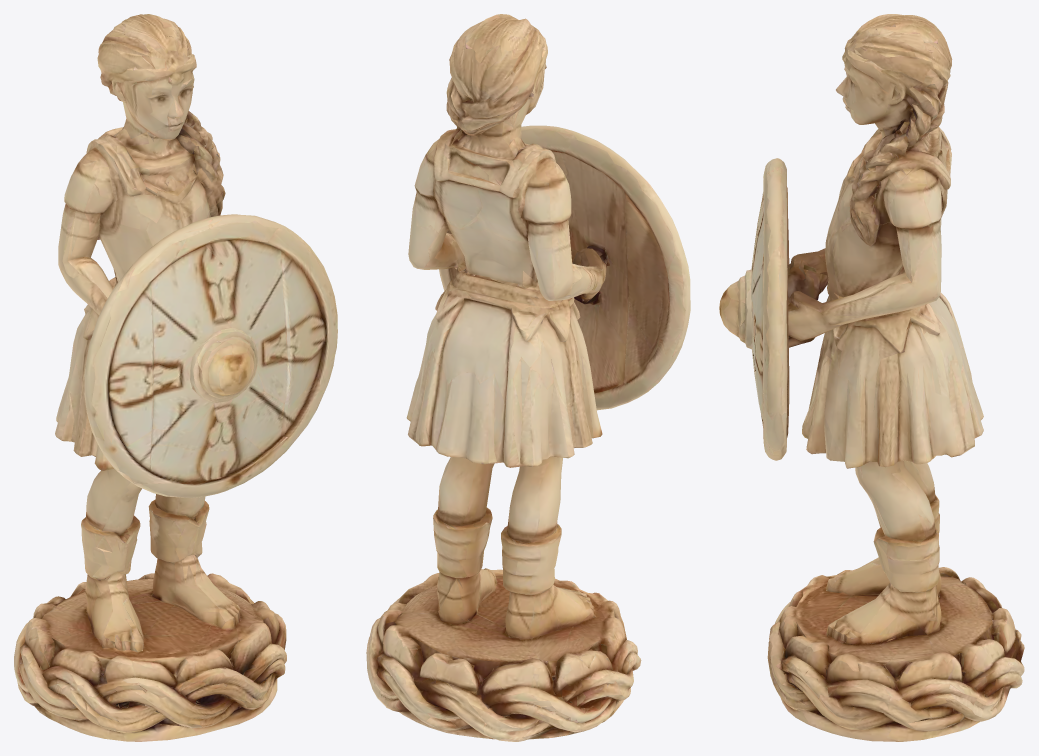
File: piece-defender2.glb
The picture shows the model from 3 angles, left to right: view 1: azimuth 30°, elevation 25°; view 2: azimuth 150°, elevation 25°; view 3: azimuth 270°, elevation 25°; orthographic projection.
Bounding box in the file's own units: 0.7466 × 1.9 × 0.7854.
1 material, 1 textured.
